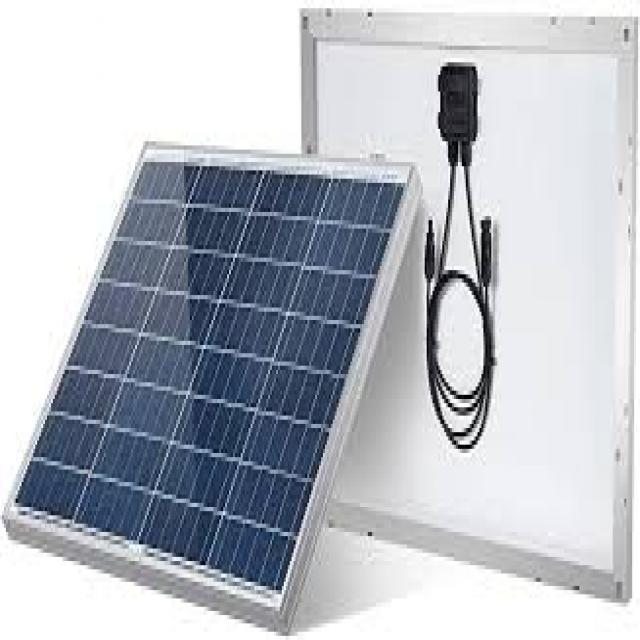no faulty: (14, 171, 396, 587)
